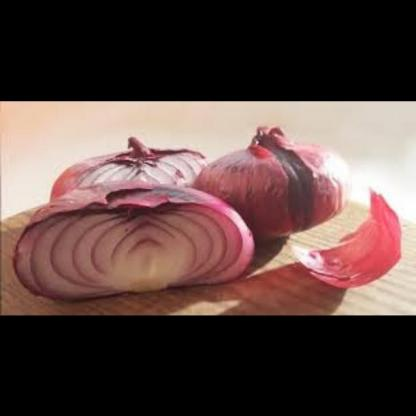onion: (13, 176, 258, 302), (200, 116, 349, 244), (280, 186, 401, 292), (50, 141, 222, 194)
